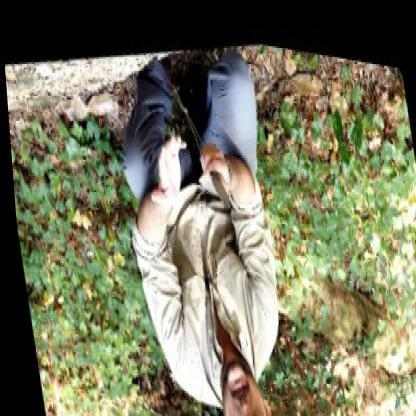knife: (195, 128, 231, 208)
